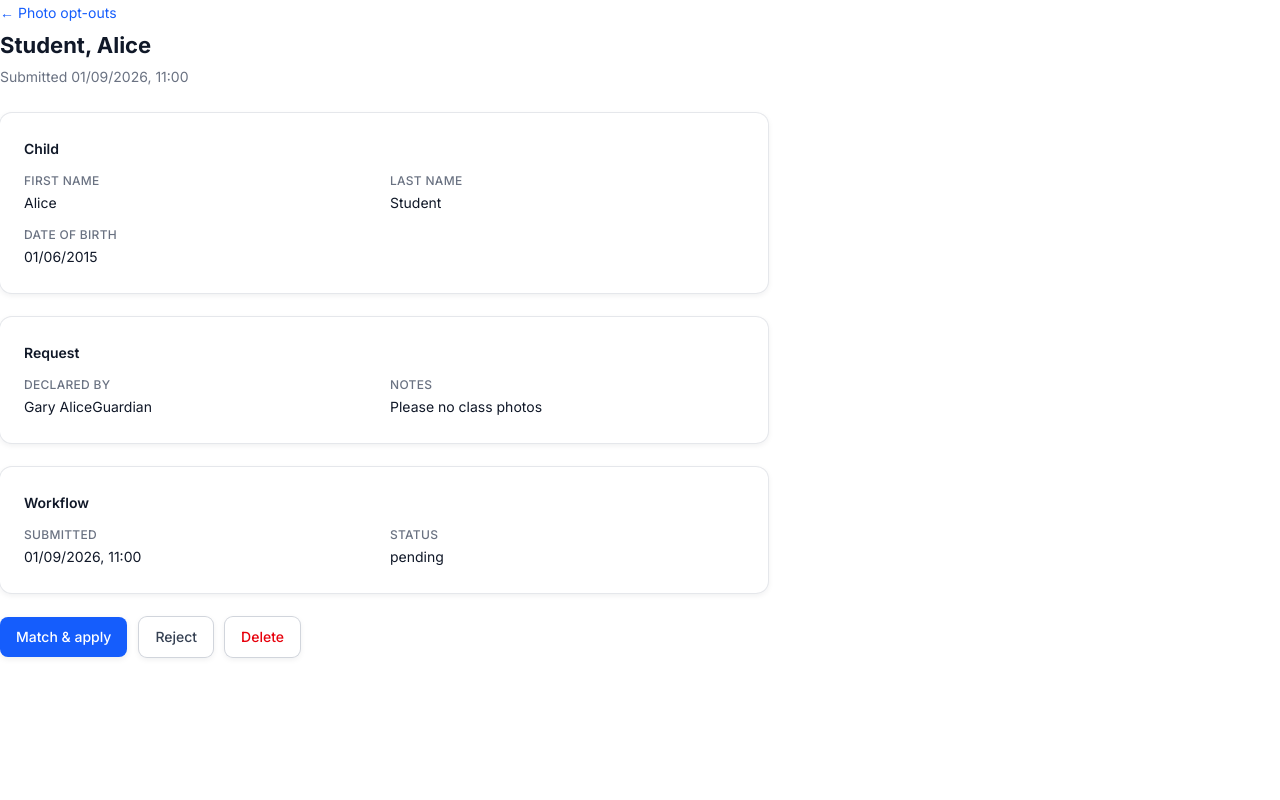
Test case: PhotoOptOutReview › closes a dialog on Cancel
This screenshot has width=1280, height=800.
Click the button "Delete" at (263, 637), box [225,617,300,657]
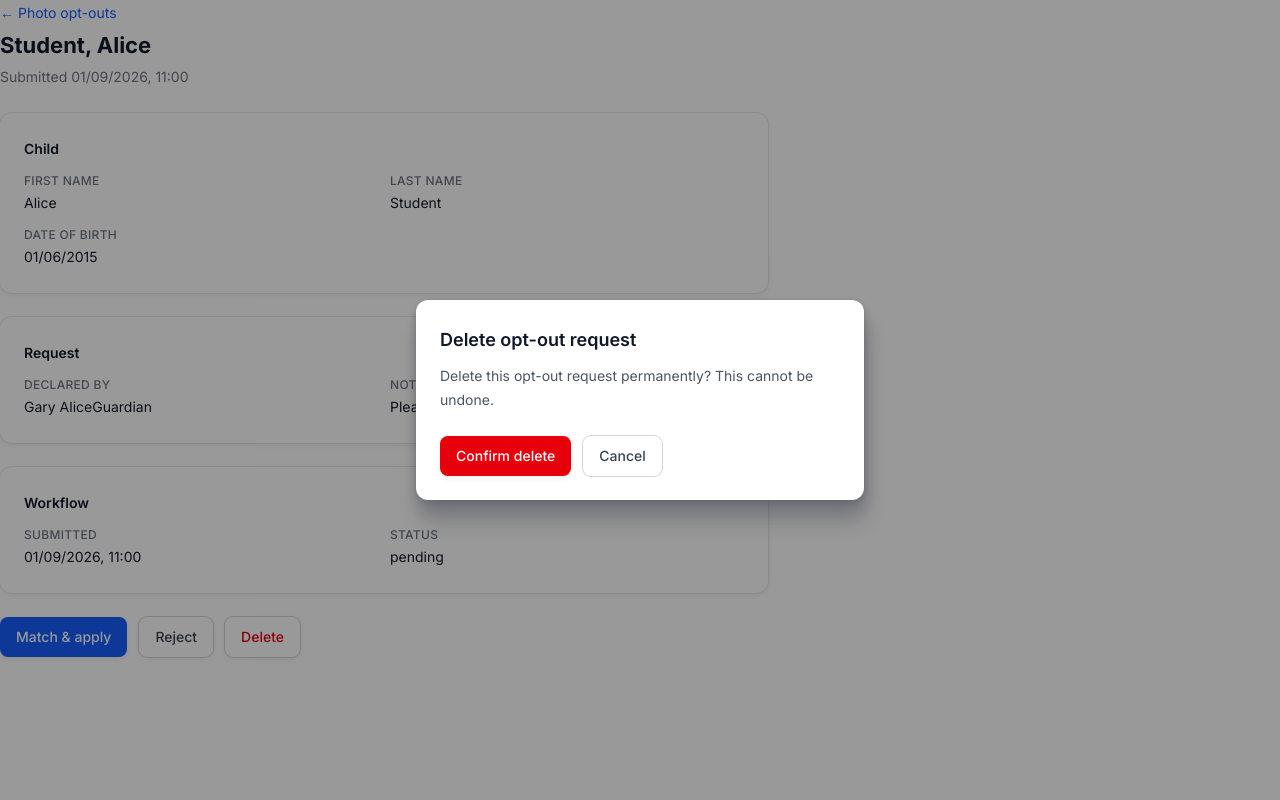
Click the button "Cancel" at (623, 456), box [583,436,662,476]
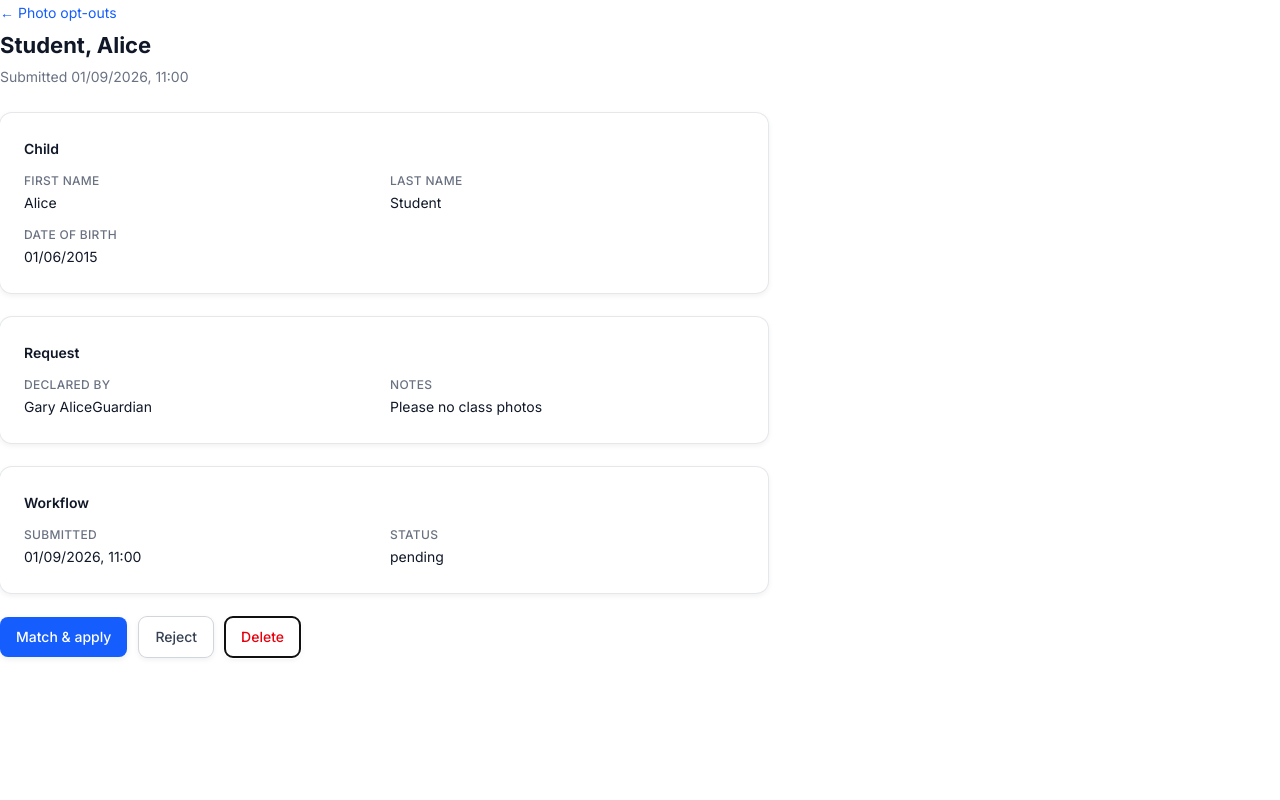
Expected: the element with test id "confirm-dialog" is gone
